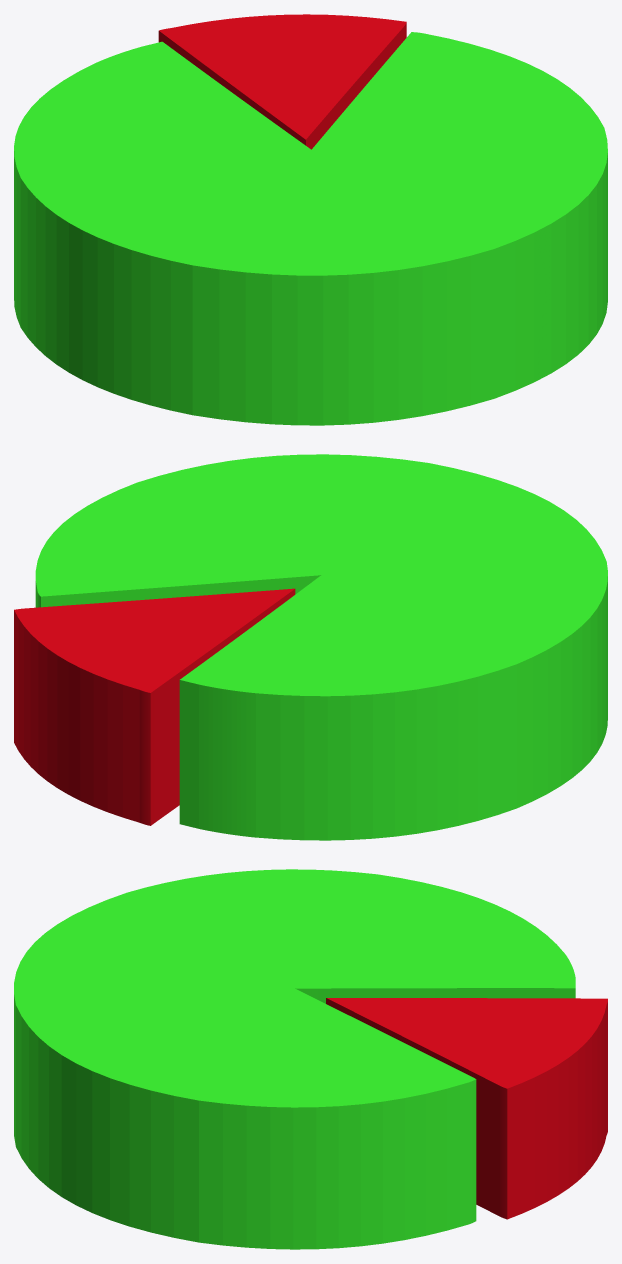
File: 1.graphicsthings.fbx
3 renders of one model, top to bottom at view 1: azimuth 30°, elevation 25°; view 2: azimuth 150°, elevation 25°; view 3: azimuth 270°, elevation 25°, orthographic. The views are drawn at different scales.
Visible parts, largest first — view 1: Curve.003, Curve.002; view 2: Curve.003, Curve.002; view 3: Curve.003, Curve.002.
Boxes of the visible parts, box(x1,y1,x2,y2) form: Curve.003: box(14, 32, 607, 425); Curve.002: box(158, 14, 406, 149); Curve.003: box(35, 454, 607, 840); Curve.002: box(14, 588, 295, 825); Curve.003: box(14, 869, 575, 1249); Curve.002: box(326, 998, 607, 1219).
Size of the model in its own units: 209 by 58.04 by 220.
